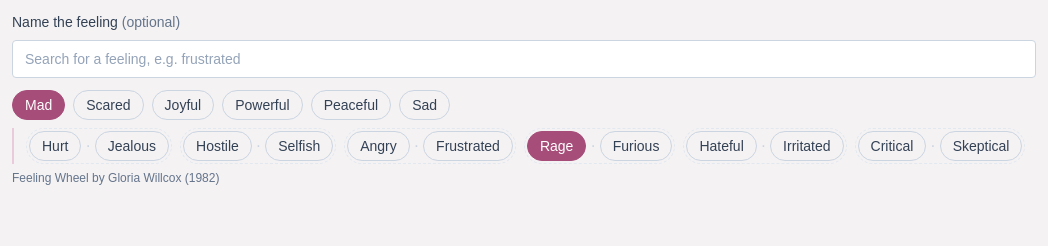
Scenario: EmotionPicker › switches to another feeling, or to another core
Click the button "Hurt" at [55, 146], box [29,131,82,161]
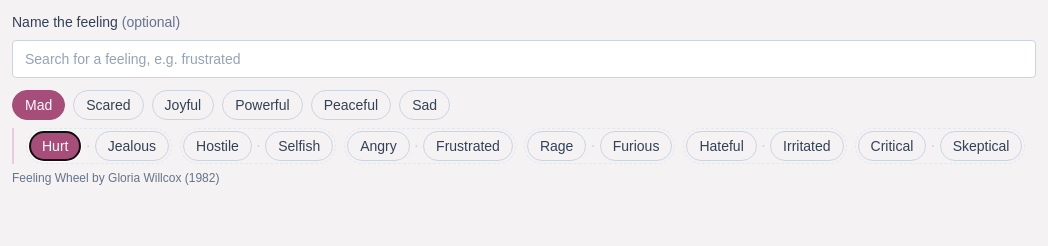
Click the button "Sad" at [425, 105], box [399,90,450,120]
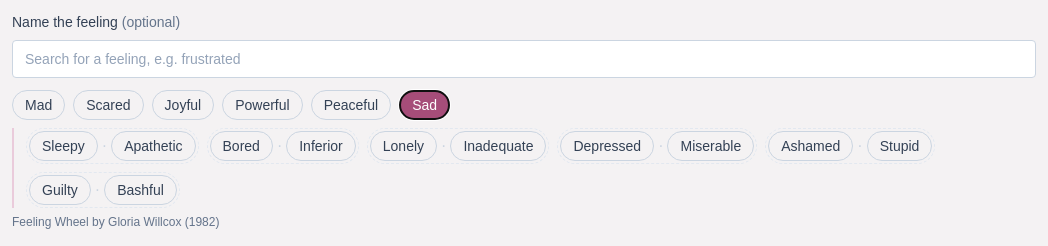
Expected: the button "Lonely" is shown, [370,131,437,161]
